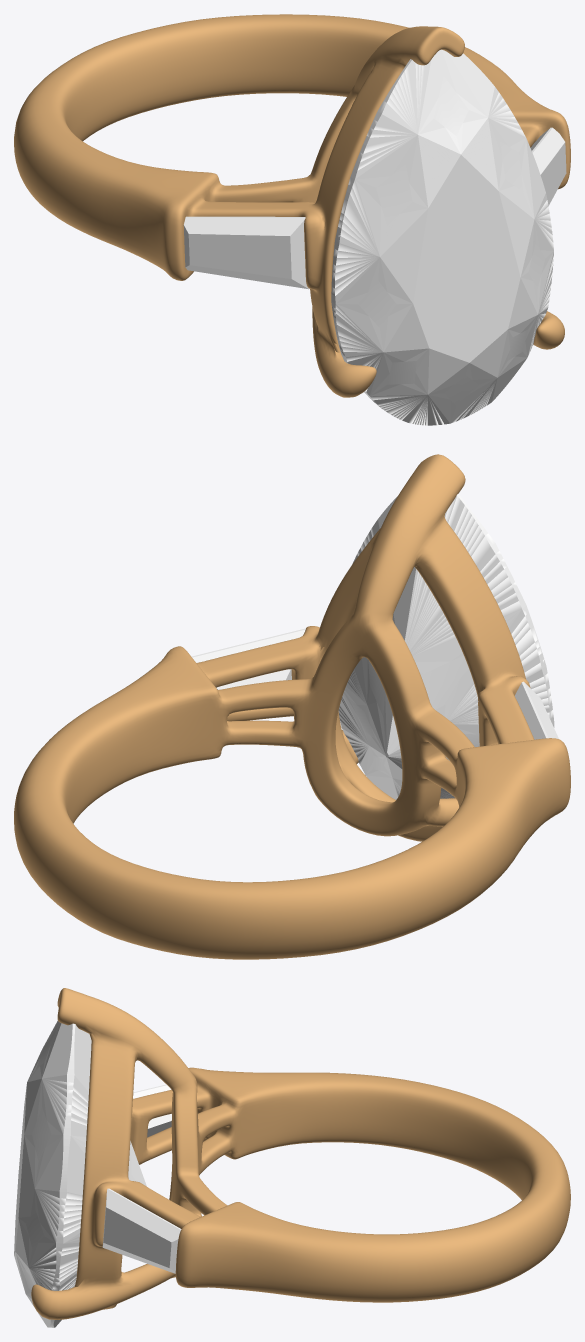
The model's file is refined_mirror_pear.glb.
3 renders of one model, top to bottom at view 1: azimuth 30°, elevation 25°; view 2: azimuth 150°, elevation 25°; view 3: azimuth 270°, elevation 25°, orthographic. The views are drawn at different scales.
Parts seen in each view (by area): view 1: ring, diamond_main, diamond_left, diamond_right; view 2: ring, diamond_main, diamond_right, diamond_left; view 3: ring, diamond_main, diamond_right, diamond_left.
Part boxes in pixels (<box>): ring: <box>14,14,570,397</box>; diamond_main: <box>331,49,553,425</box>; diamond_left: <box>183,216,309,289</box>; diamond_right: <box>530,127,566,205</box>; ring: <box>14,454,570,959</box>; diamond_main: <box>338,493,554,799</box>; diamond_right: <box>191,628,305,689</box>; diamond_left: <box>515,681,558,739</box>; ring: <box>31,988,570,1319</box>; diamond_main: <box>14,1020,146,1327</box>; diamond_right: <box>102,1188,181,1273</box>; diamond_left: <box>133,1084,171,1137</box>.
Size of the model in its own units: 2.19 by 1.83 by 2.8.
